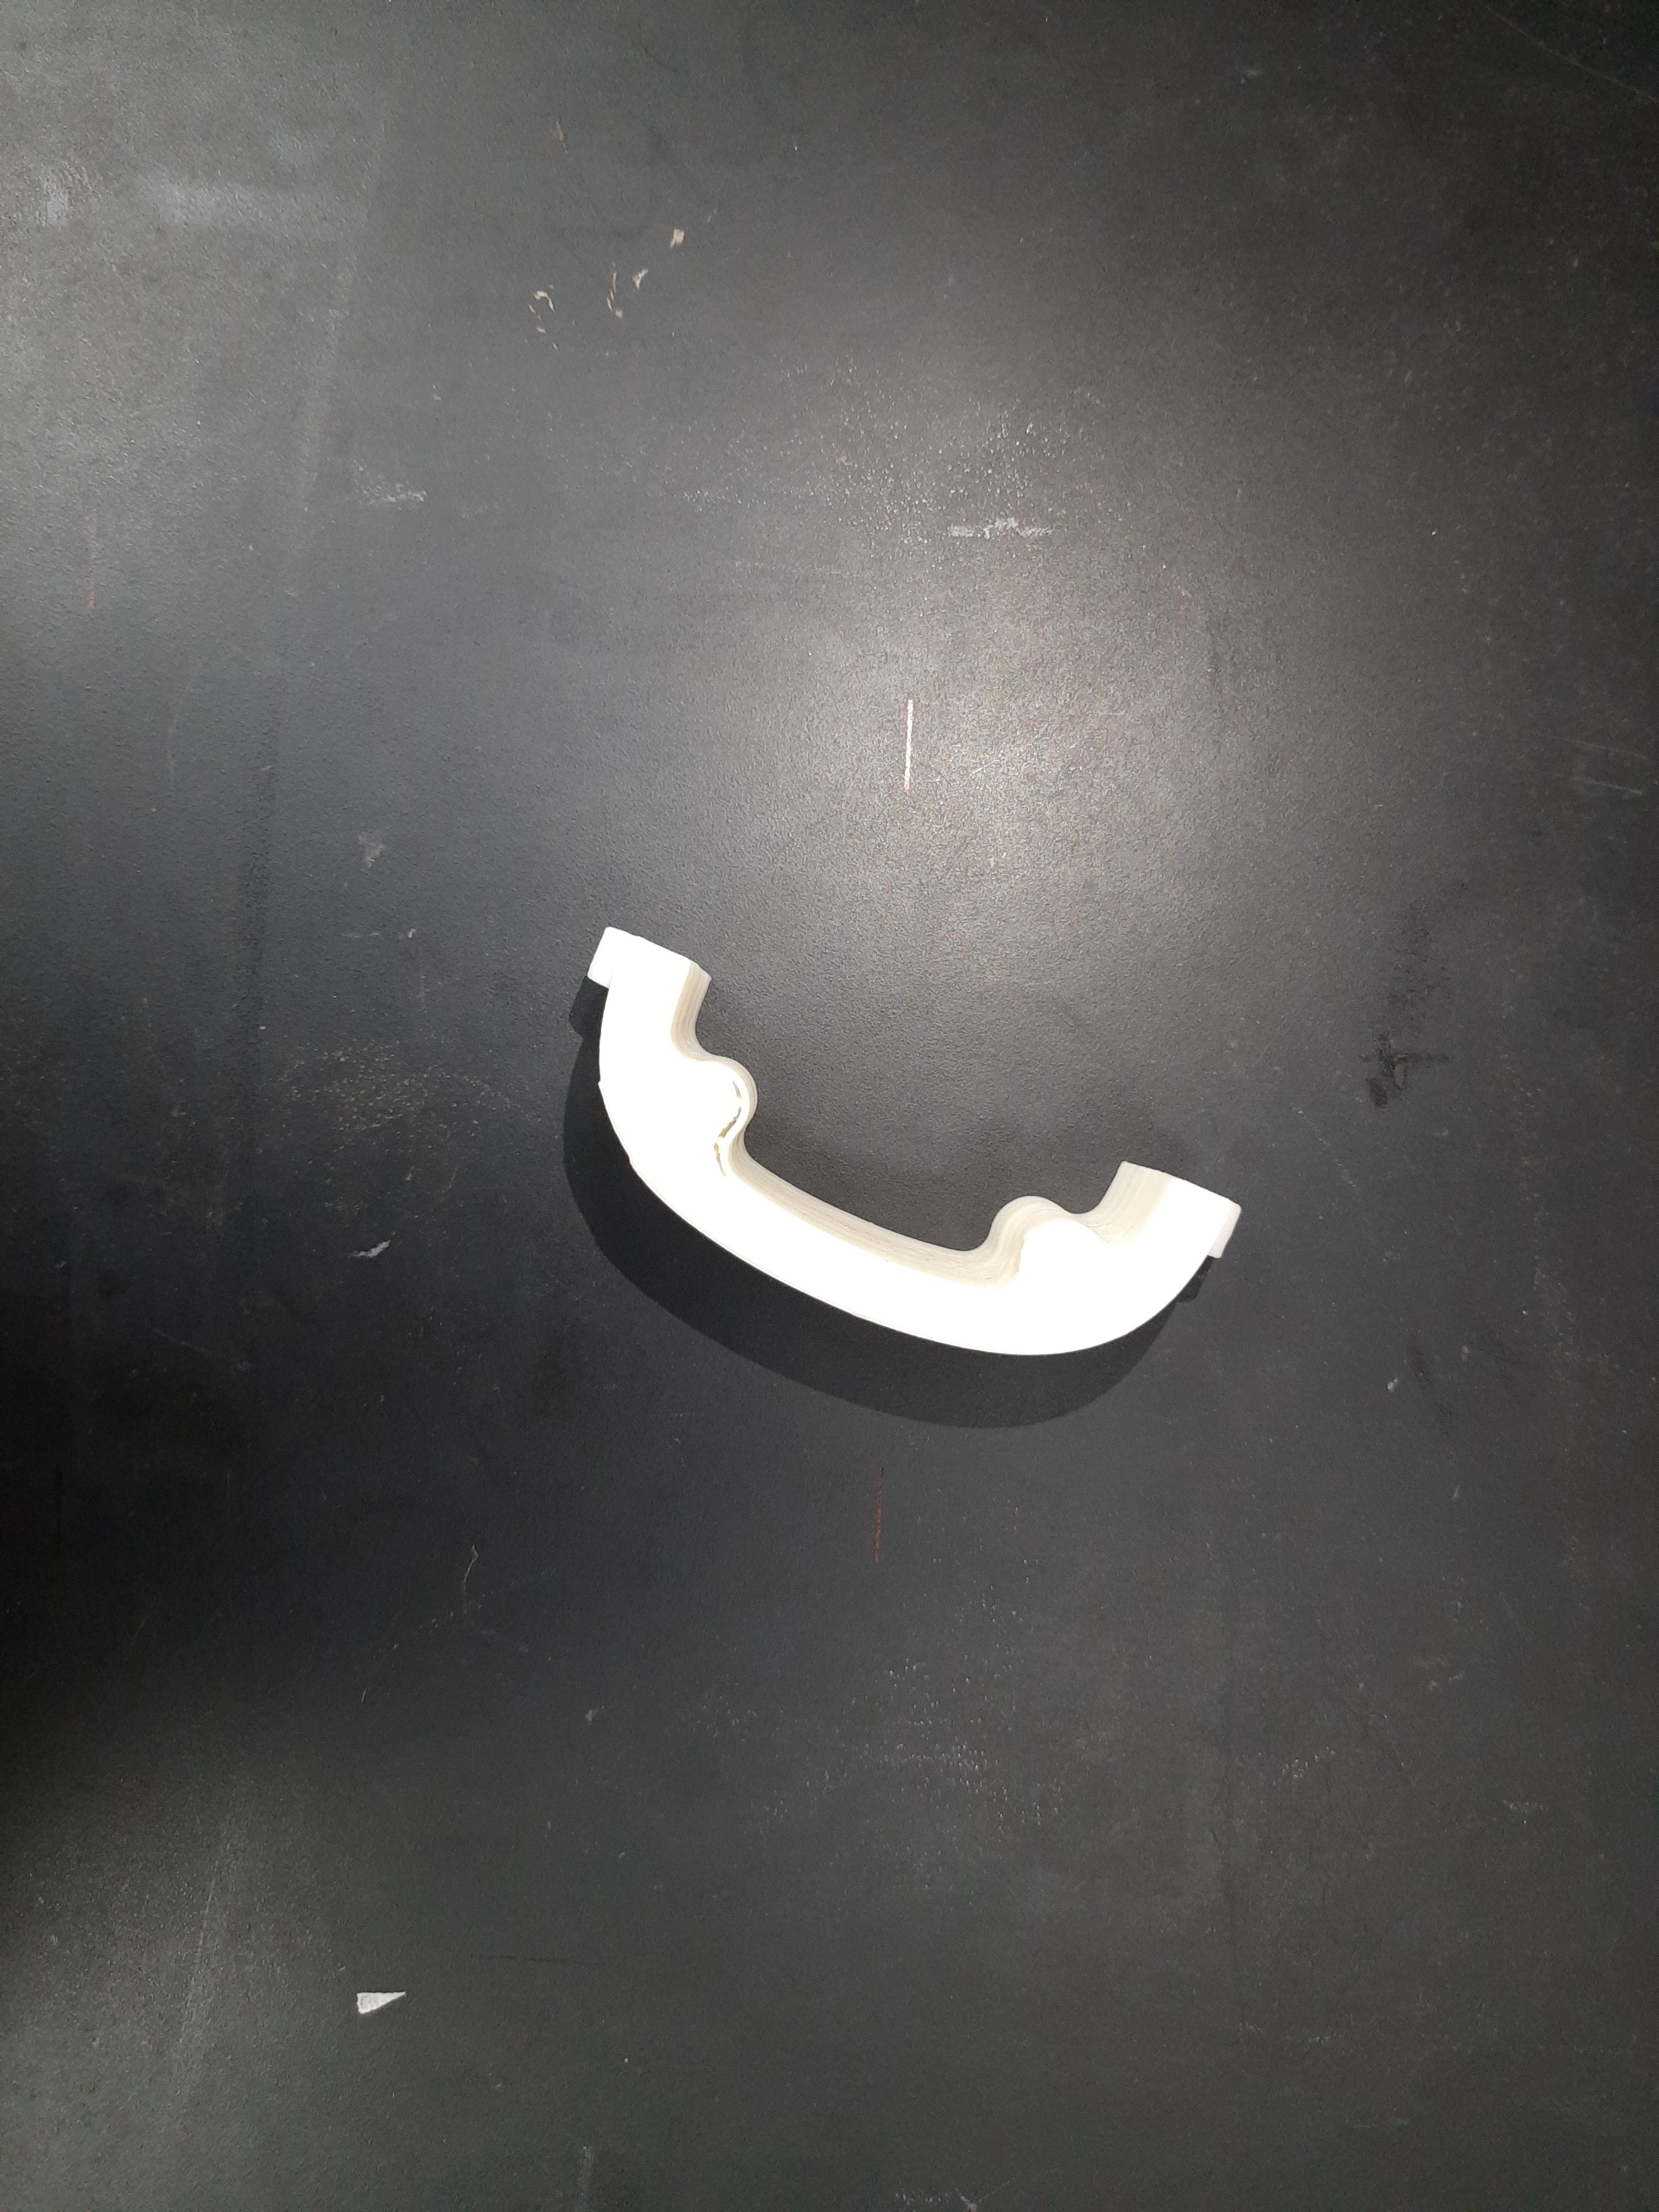ARC: (497, 914, 1256, 1449)
